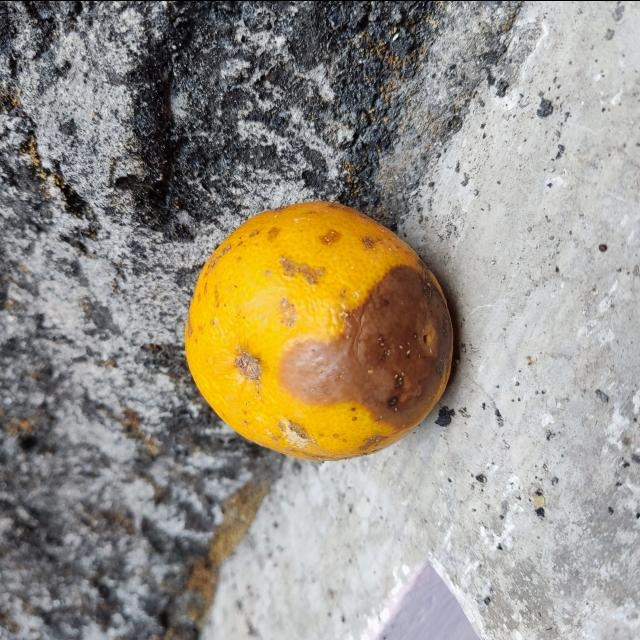agrume: (185, 195, 455, 465)
